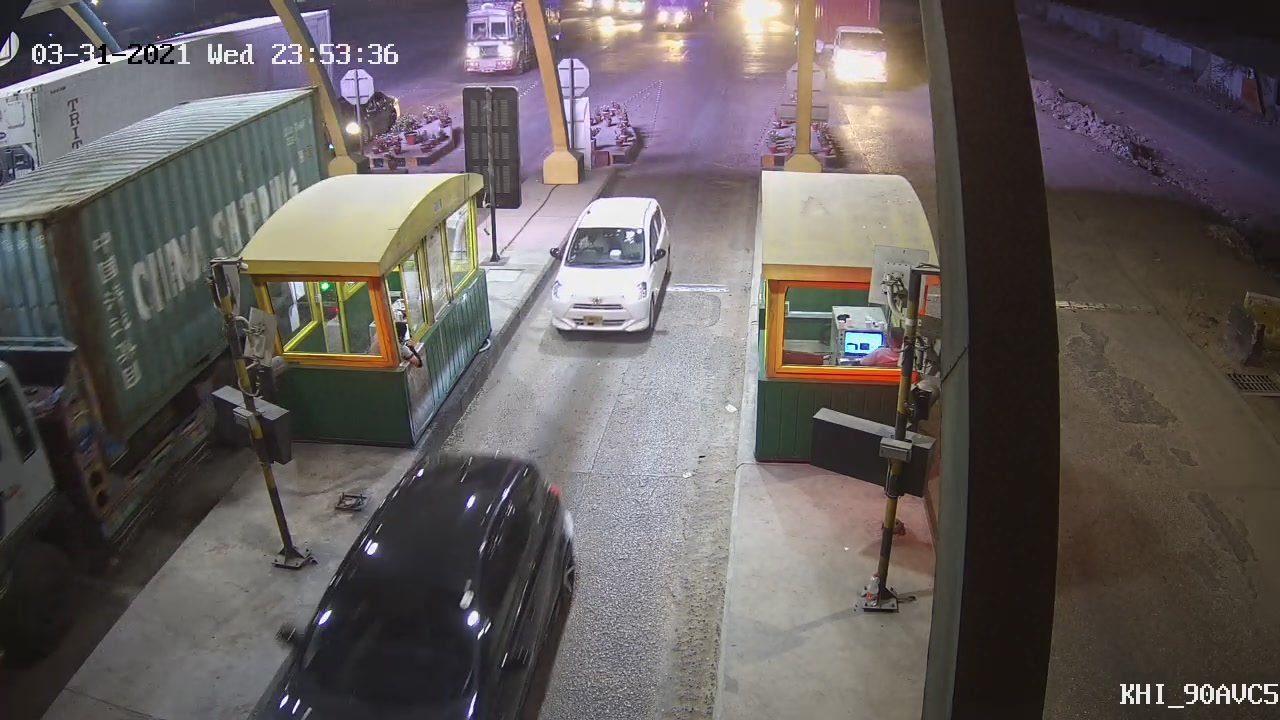F1: (539, 193, 687, 343)
